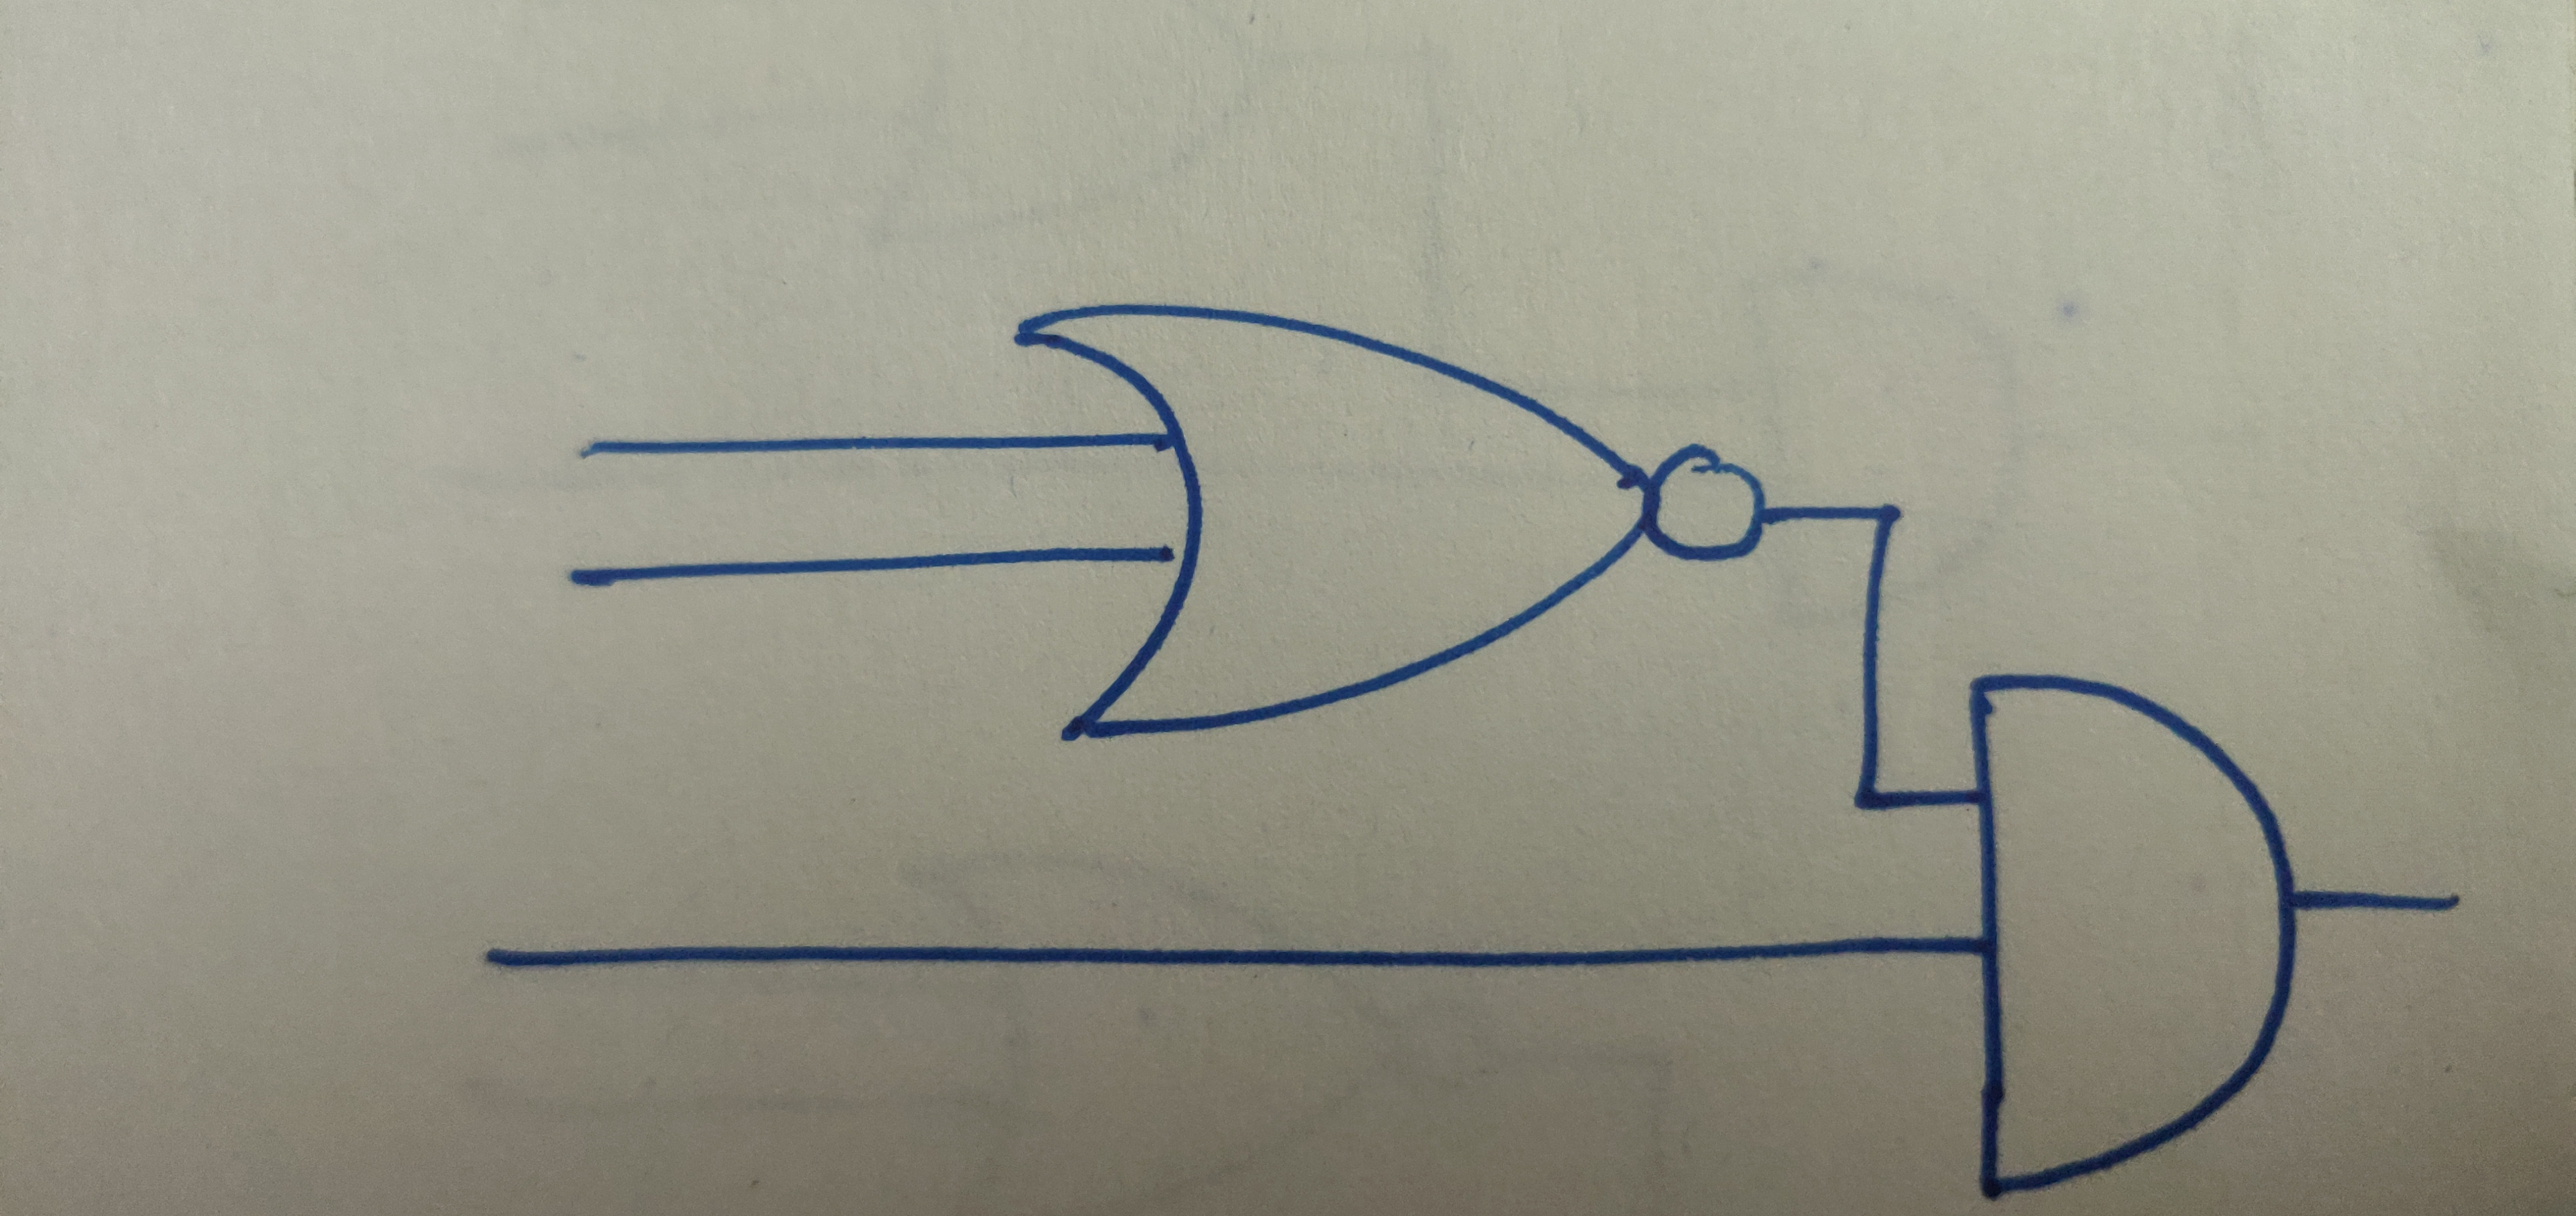and: (1965, 667, 2303, 1209)
not: (1640, 440, 1774, 572)
or: (1005, 302, 1656, 749)
